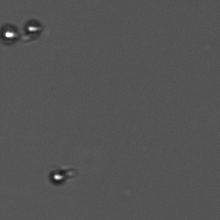Living Cell: (1, 23, 18, 45), (49, 167, 67, 184), (26, 18, 42, 35)
